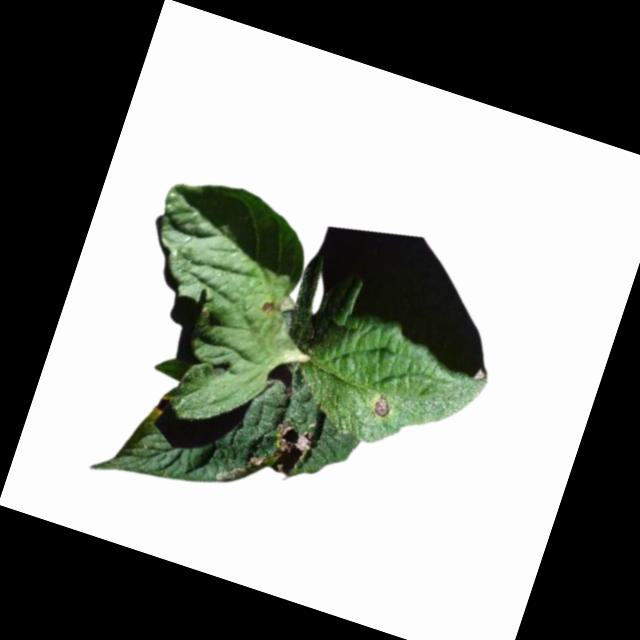Early_blight: (260, 417, 316, 482), (372, 395, 392, 419), (259, 300, 275, 317)
